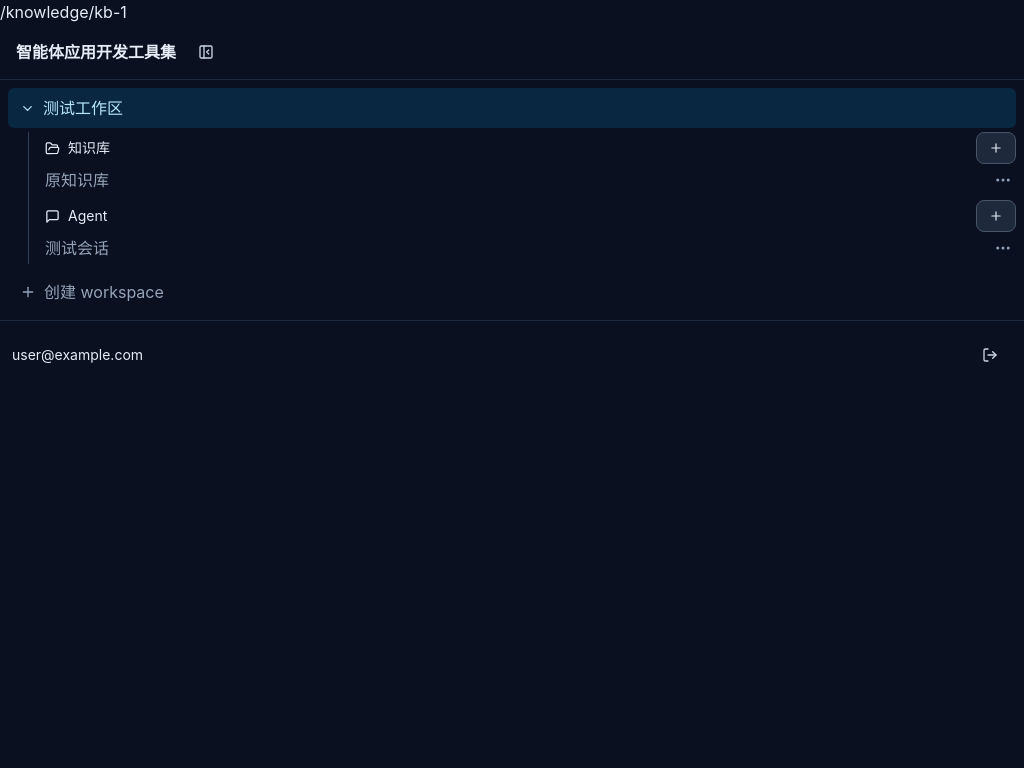
Test: knowledge rename trims the name and shows duplicate-name errors
Click the button named "知识库操作：原知识库" at coordinates (1003, 180), box [990,167,1016,193]
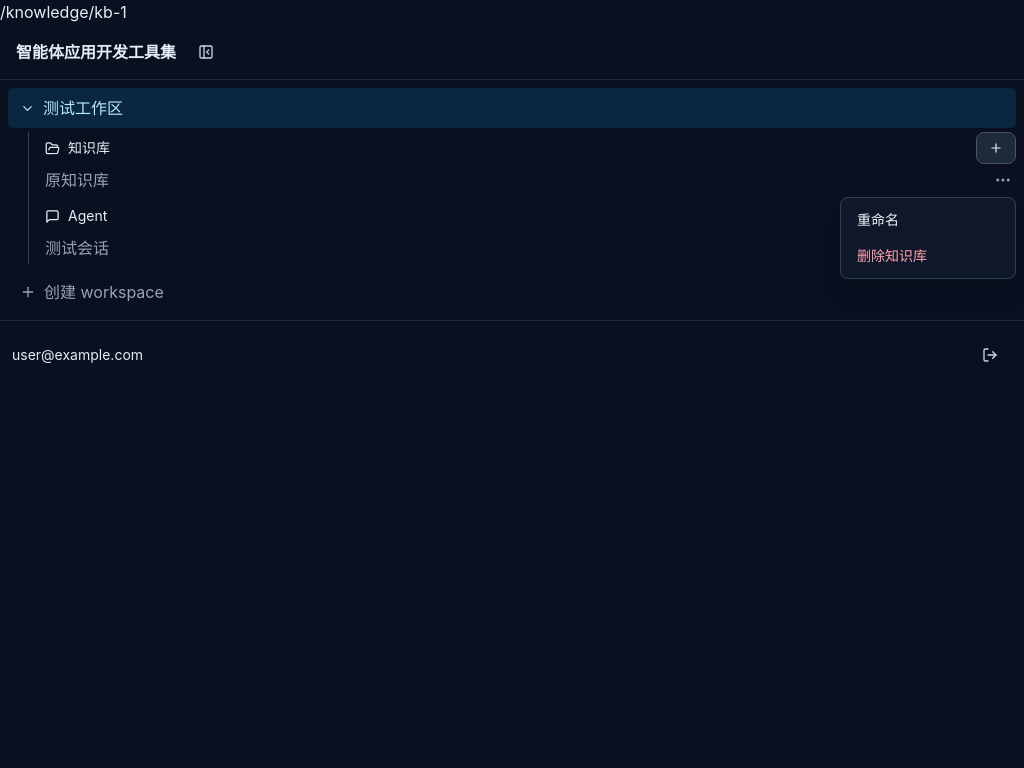
Click the menu item "重命名" at coordinates (928, 220), box [845,202,1011,238]
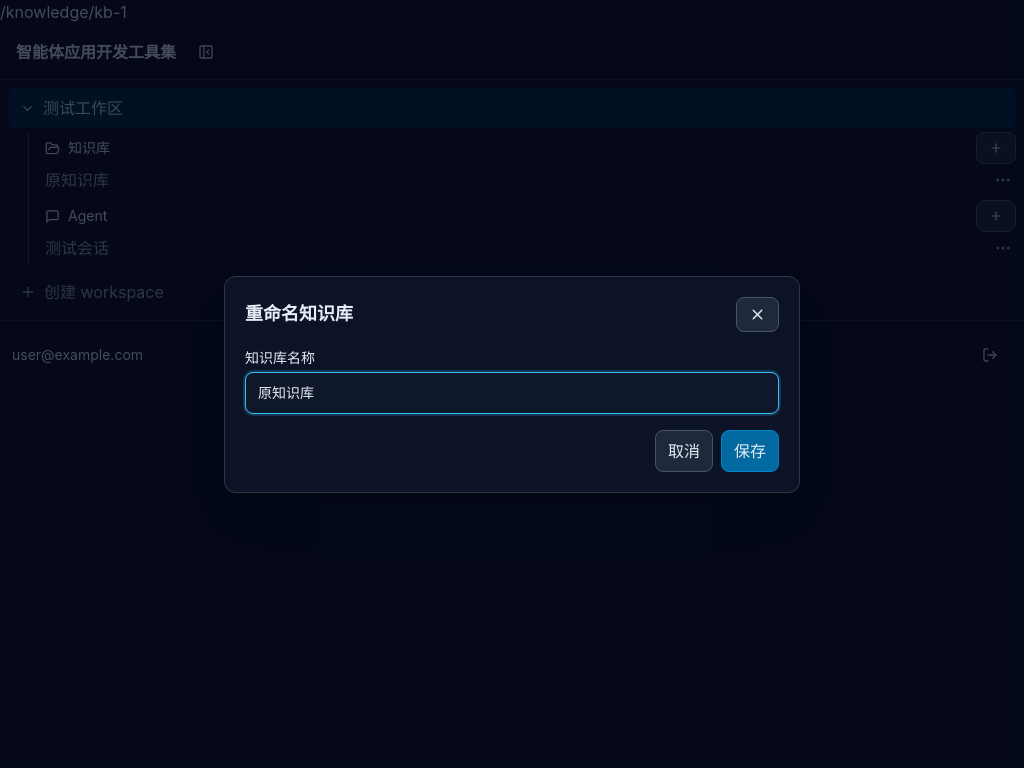
Expected: the field labelled "知识库名称" holds "原知识库"
Replace the text in the field labelled "知识库名称" with "  新知识库  " at coordinates (512, 392), box [245,372,779,414]
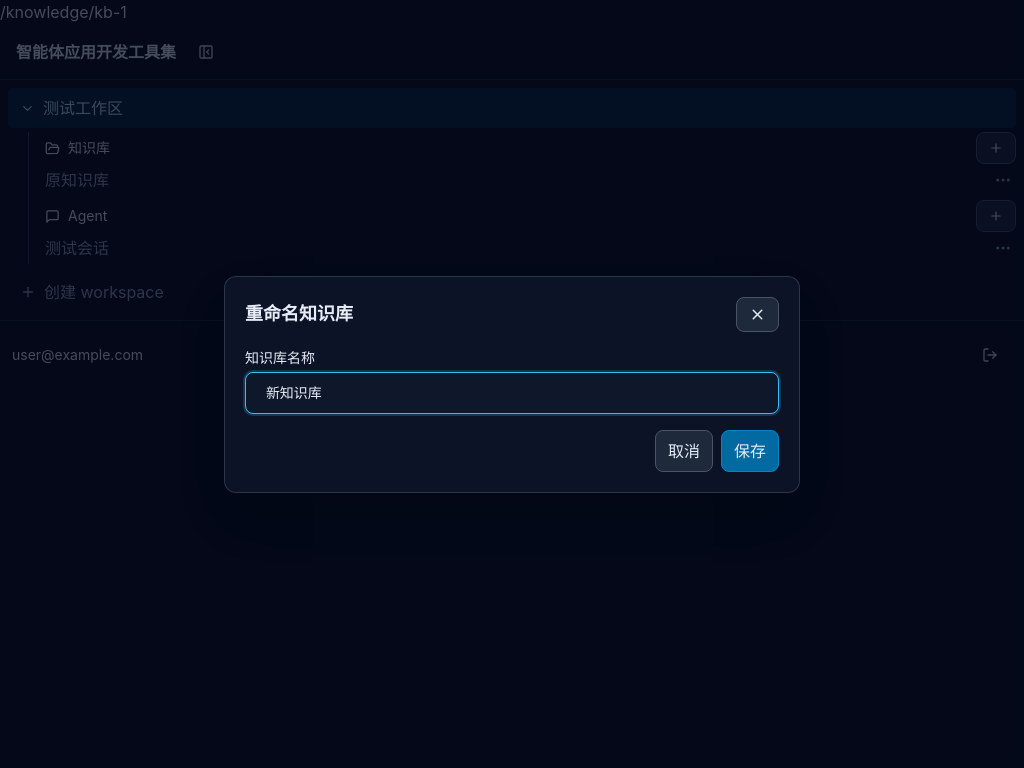
Click the button "保存" at coordinates (750, 450), box [721,430,779,472]
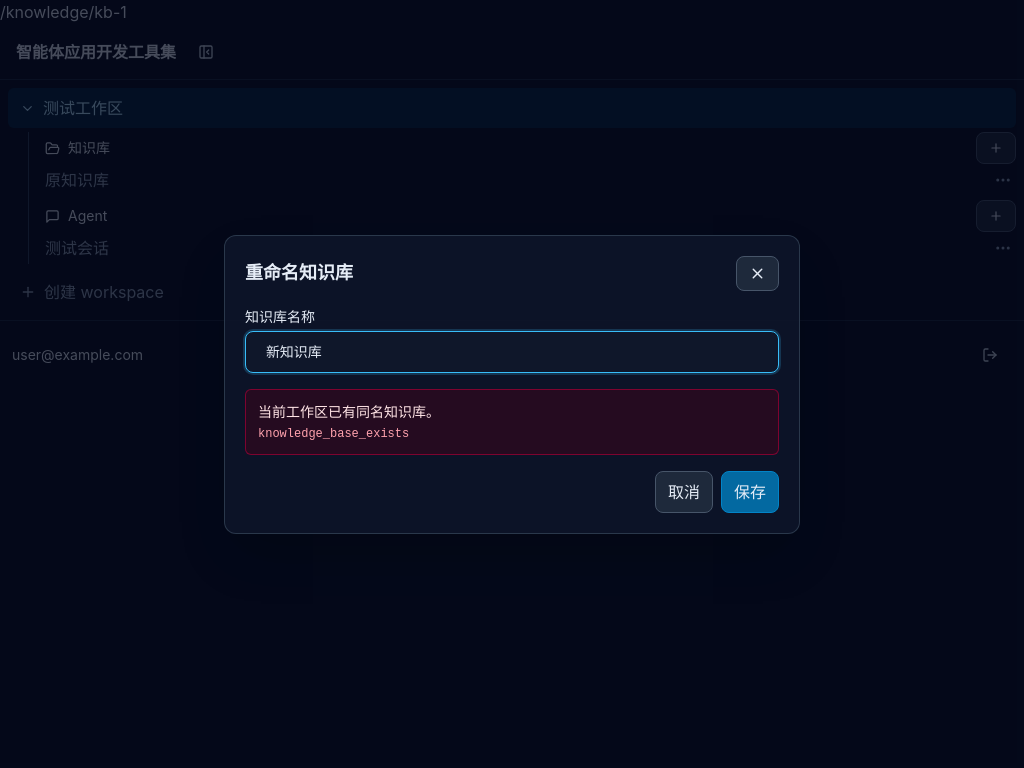
Expected: the text "当前工作区已有同名知识库。" is shown, [258,402,440,420]
Click the button "保存" at coordinates (750, 492), box [721,470,779,512]
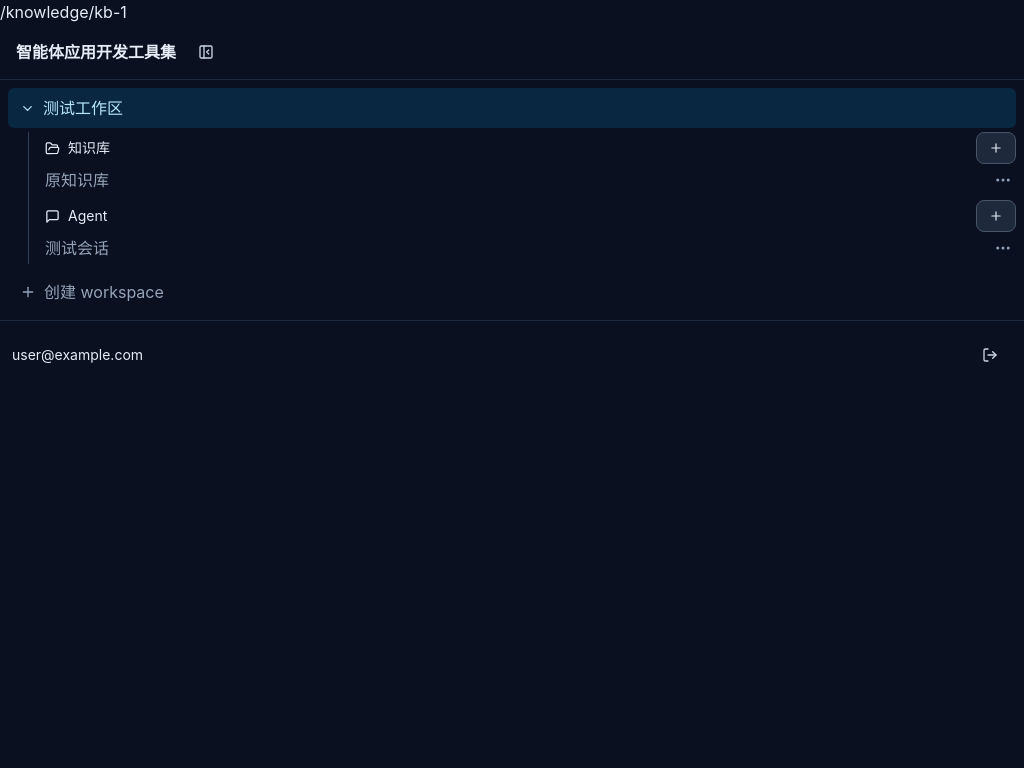
Expected: the dialog is gone
